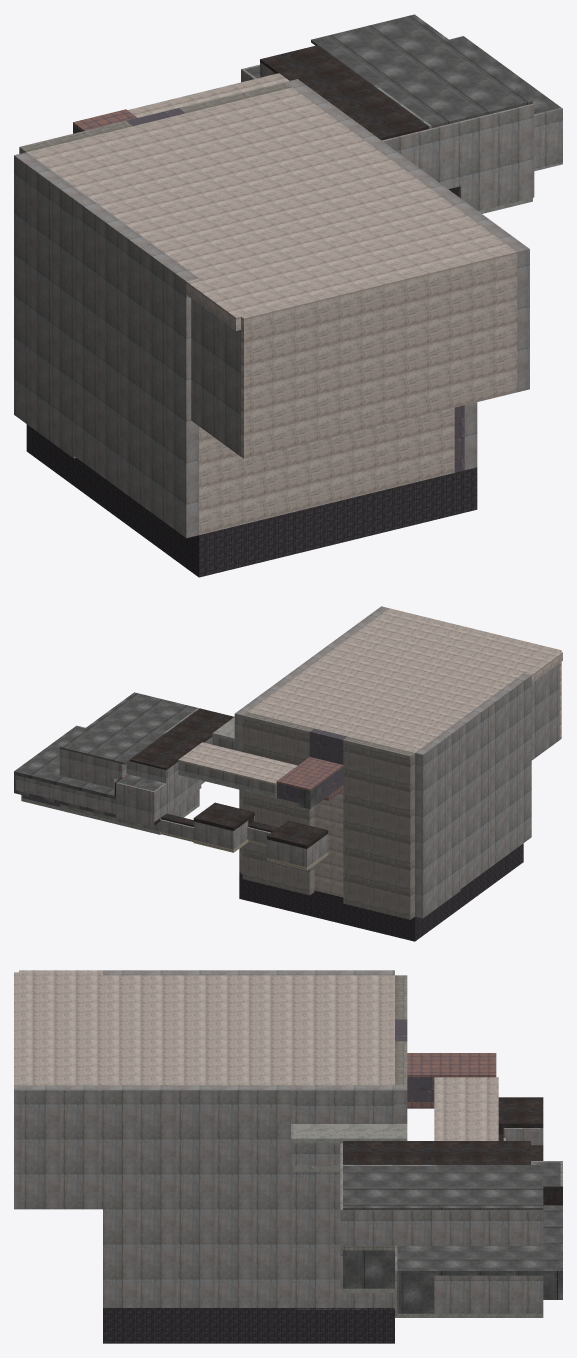
3 renders of one model, top to bottom at view 1: azimuth 30°, elevation 25°; view 2: azimuth 150°, elevation 25°; view 3: azimuth 270°, elevation 25°, orthographic. The views are drawn at different scales.
Parts seen in each view (by area): view 1: entity0_brush180, entity0_brush178, entity0_brush257, entity0_brush261, entity0_brush179, entity0_brush171, entity0_brush260, entity0_brush259, entity0_brush251, entity0_brush106, entity0_brush309, entity0_brush115 (+18 smaller); view 2: entity0_brush180, entity0_brush178, entity0_brush168, entity0_brush179, entity0_brush171, entity0_brush260, entity0_brush166, entity0_brush106, entity0_brush115, entity0_brush150, entity0_brush181, entity0_brush309 (+28 smaller); view 3: entity0_brush177, entity0_brush180, entity0_brush250, entity0_brush179, entity0_brush167, entity0_brush260, entity0_brush105, entity0_brush106, entity0_brush115, entity0_brush72, entity0_brush74, entity0_brush150 (+22 smaller).
Part boxes in pixels (x1,y1,x2,y2): entity0_brush180: (27,87,464,278); entity0_brush178: (74,196,198,538); entity0_brush257: (307,268,442,442); entity0_brush261: (199,407,454,534); entity0_brush179: (26,424,477,577); entity0_brush171: (14,235,75,458); entity0_brush260: (186,232,439,330); entity0_brush259: (241,300,309,458); entity0_brush251: (440,250,517,351); entity0_brush106: (311,14,476,85); entity0_brush309: (191,298,240,456); entity0_brush115: (260,45,429,140); entity0_brush180: (248,632,523,752); entity0_brush178: (453,673,531,888); entity0_brush168: (343,790,414,919); entity0_brush179: (239,843,523,941); entity0_brush171: (415,777,460,918); entity0_brush260: (403,621,562,683); entity0_brush166: (242,790,314,895); entity0_brush106: (59,718,163,764); entity0_brush115: (129,708,234,769); entity0_brush150: (178,742,297,784); entity0_brush181: (314,790,343,897); entity0_brush309: (531,663,559,760); entity0_brush177: (103,1085,293,1307); entity0_brush180: (103,975,394,1085); entity0_brush250: (14,1085,102,1209); entity0_brush179: (103,1308,394,1343); entity0_brush167: (293,1172,394,1309); entity0_brush260: (19,970,102,1054); entity0_brush105: (397,1210,543,1245); entity0_brush106: (437,1165,543,1209); entity0_brush115: (343,1141,530,1164); entity0_brush72: (397,1246,543,1275); entity0_brush74: (434,1275,543,1313); entity0_brush150: (434,1077,498,1140).
Size of the model in its own units: 3472 by 1808 by 3552.
Materials: 13 (13 with a texture image).
